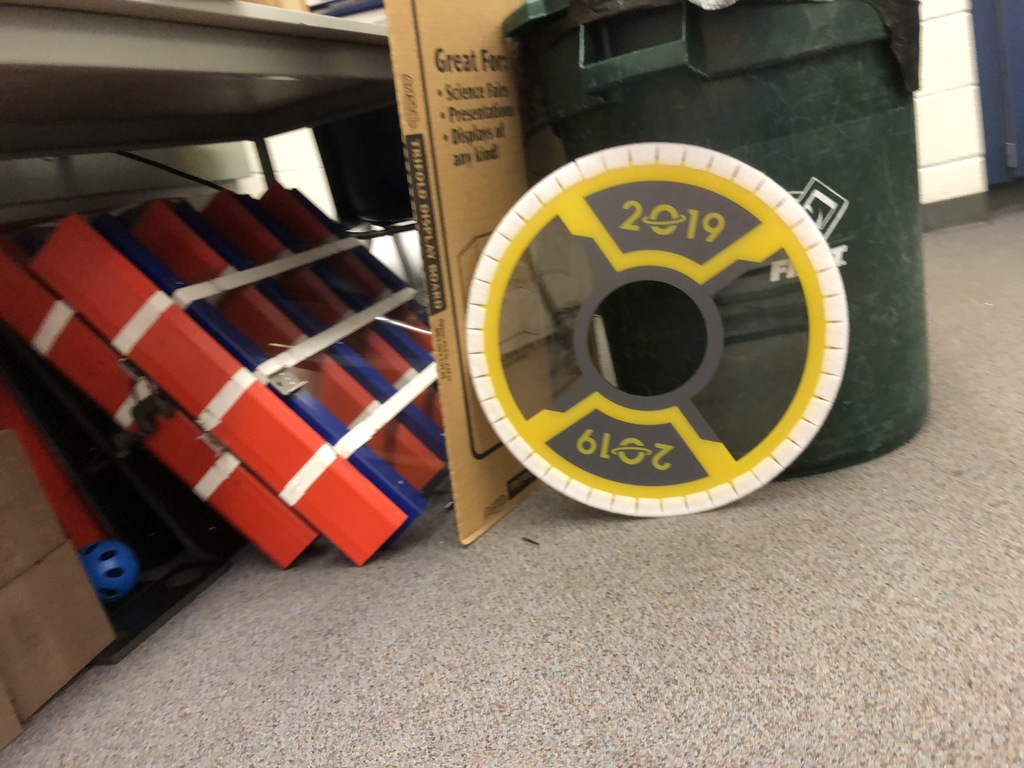hatch_panel: (460, 128, 860, 528)
